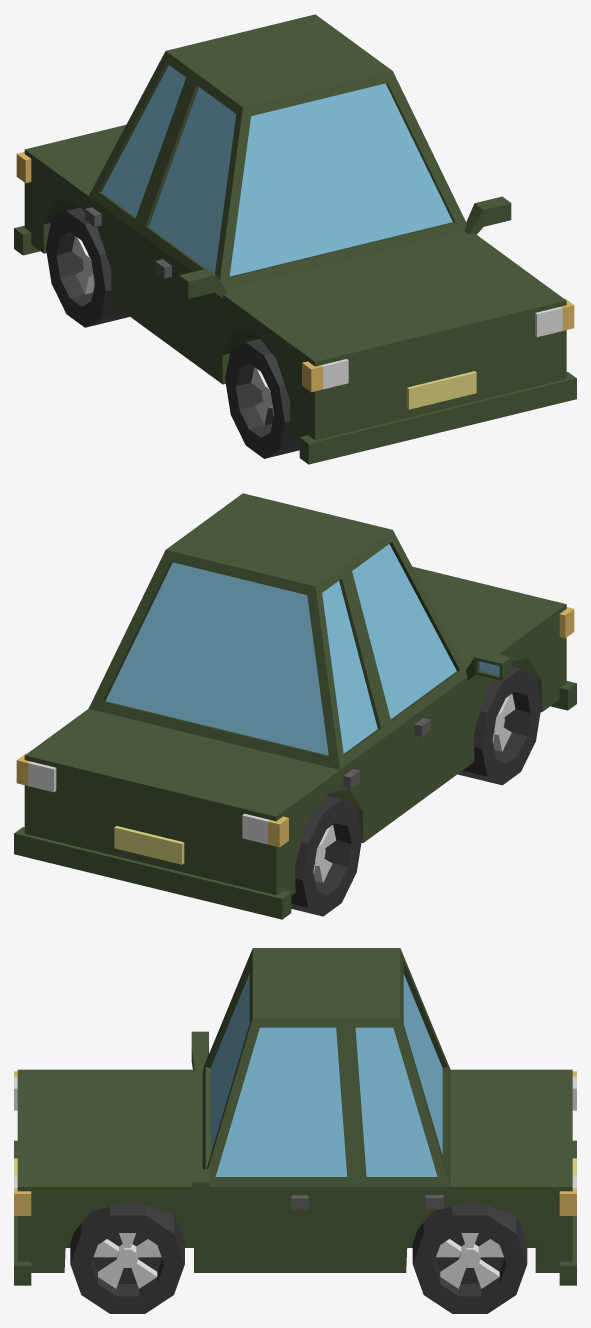
File: Hatchback-sudan.glb
The picture shows the model from 3 angles, top to bottom: view 1: azimuth 30°, elevation 25°; view 2: azimuth 150°, elevation 25°; view 3: azimuth 270°, elevation 25°; orthographic projection. The views are drawn at different scales.
Visible parts, largest first — view 1: Cube.009; view 2: Cube.009; view 3: Cube.009.
Part boxes in pixels (x1,y1,x2,y2): Cube.009: [14, 14, 576, 464]; Cube.009: [14, 493, 576, 919]; Cube.009: [14, 948, 576, 1313].
Size of the model in its own units: 2.57 by 2.16 by 4.06.
